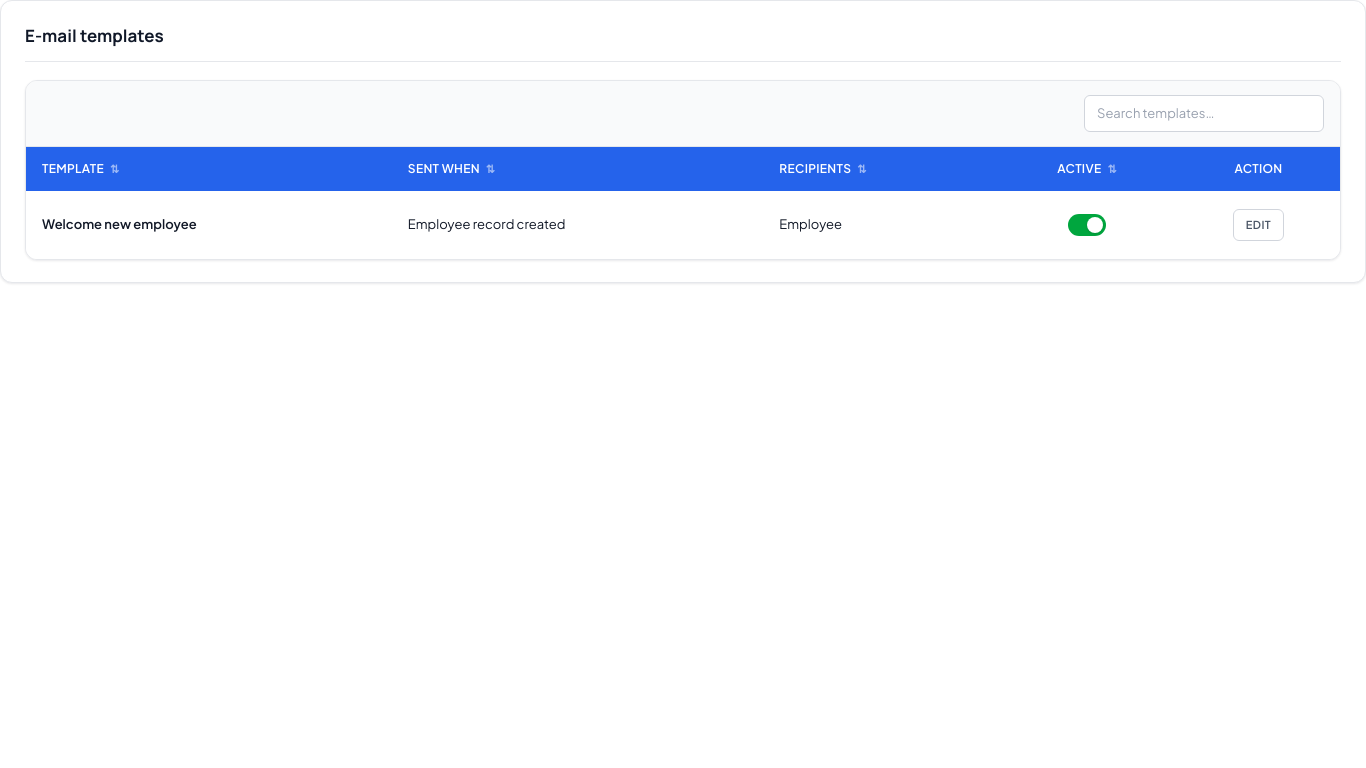
it: EmailTemplatesTab › VR-10: shows the exact test-send confirmation toast after a successful send
Click the button "Edit" at (1258, 225), box [1233,209,1284,241]
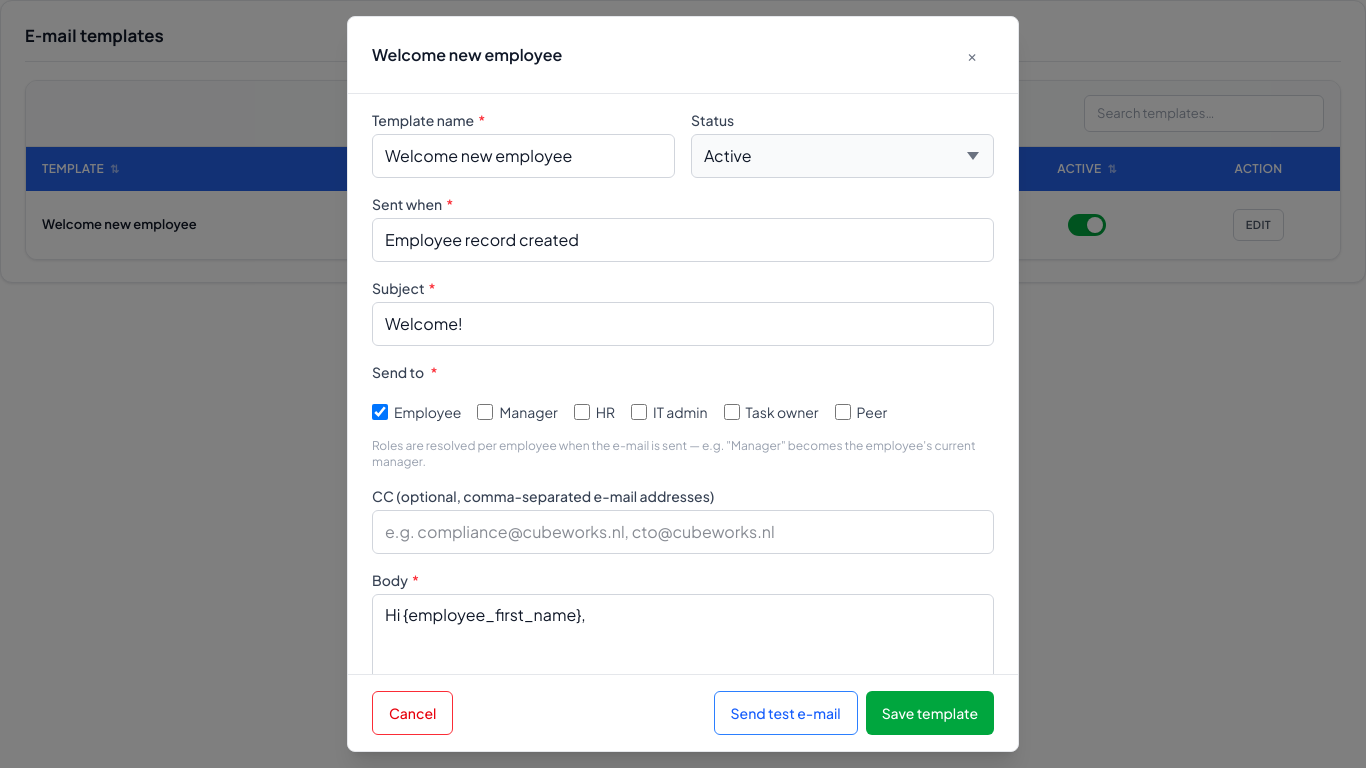
expect the button "Send test e-mail" is enabled: met
Click the button "Send test e-mail" at (786, 713), box [714,691,858,735]
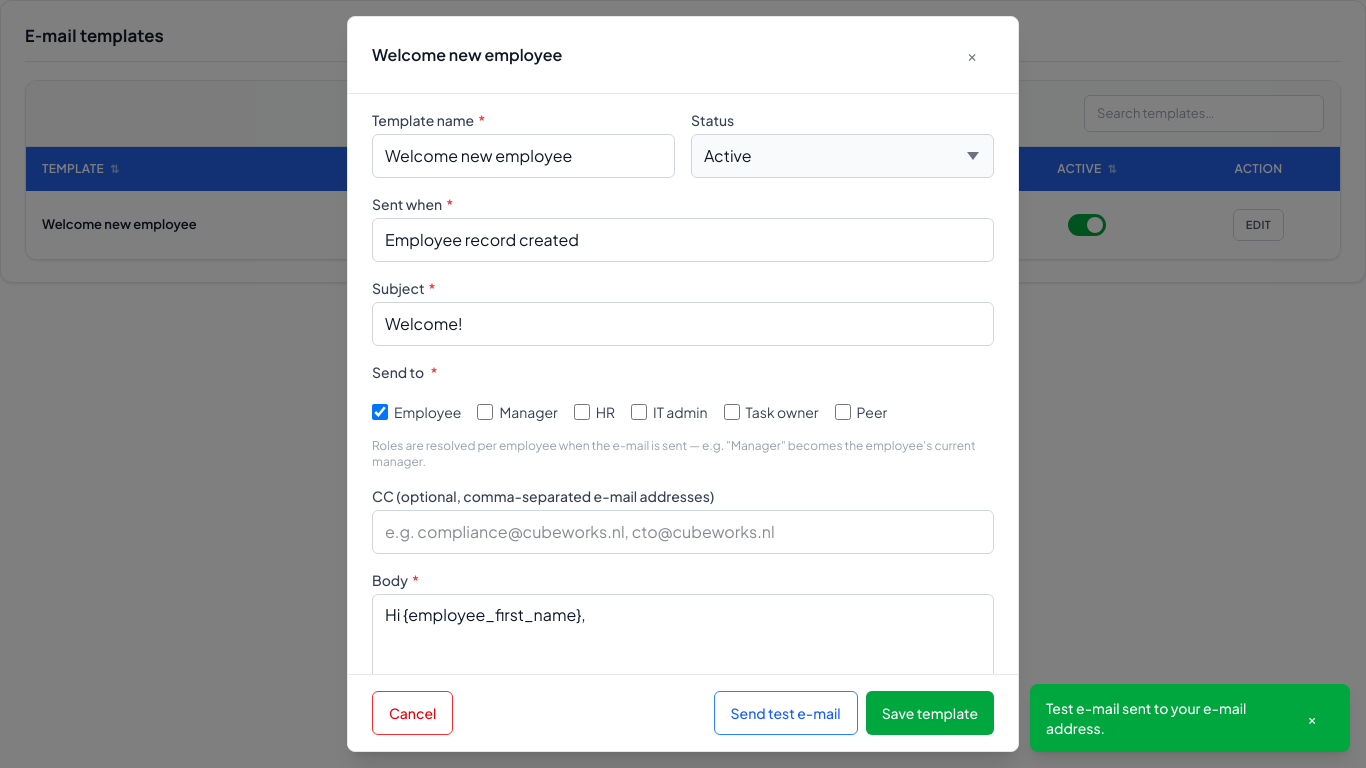
expect the text "Test e-mail sent to your e-mail address." is shown: met, box [1046,698,1278,738]
